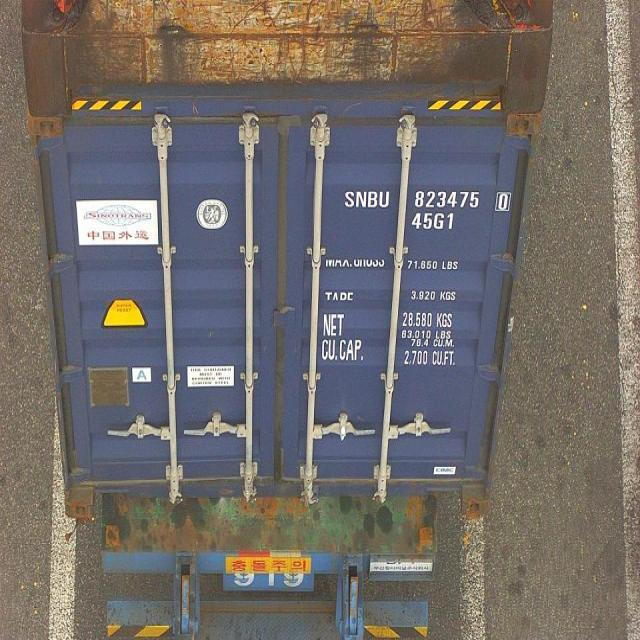ISO: (412, 212, 454, 232)
container_number: (351, 189, 513, 211)
